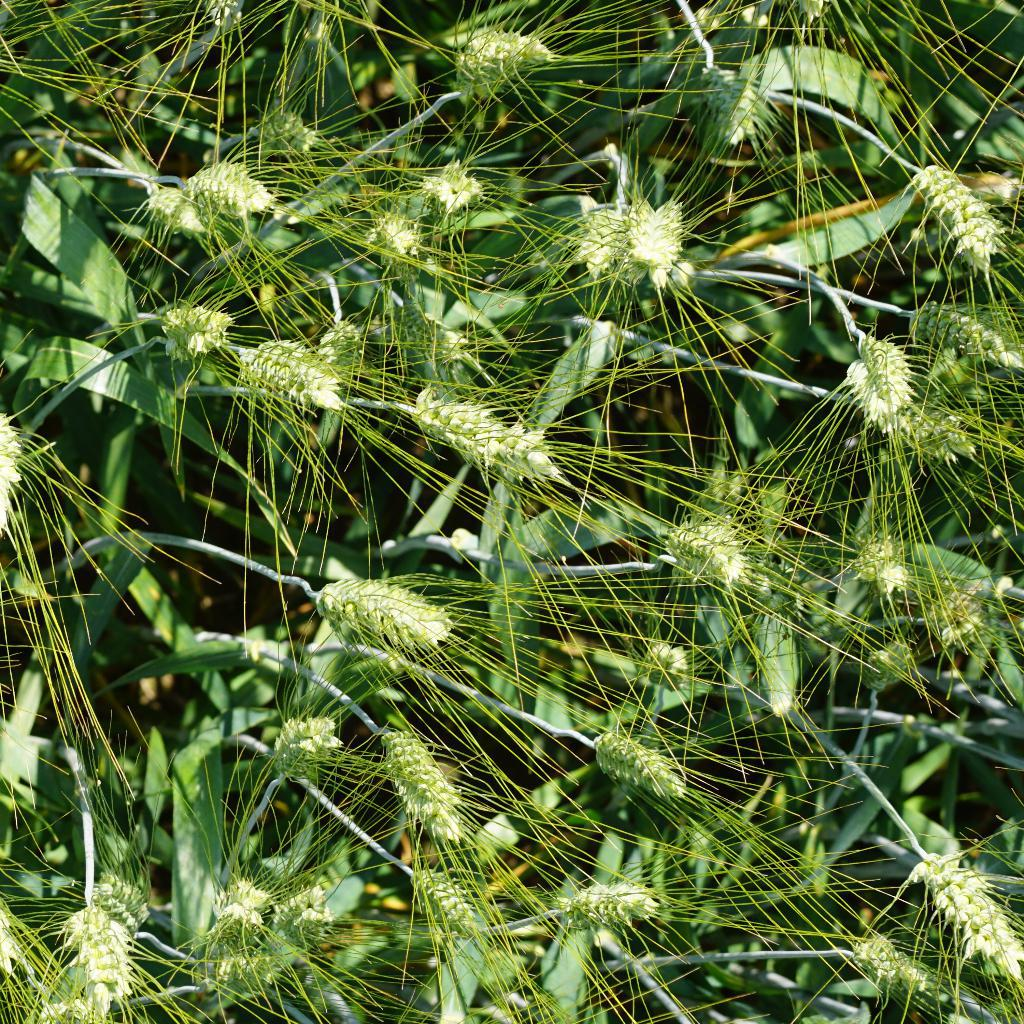0-0: (390, 381, 576, 495), (905, 836, 1024, 982), (278, 573, 458, 655), (364, 715, 475, 845), (900, 160, 1011, 274), (574, 186, 690, 293), (439, 16, 561, 102), (565, 729, 692, 806), (842, 396, 979, 465), (61, 895, 141, 1010), (234, 335, 346, 416), (884, 303, 1011, 370), (646, 513, 756, 586), (842, 324, 918, 427), (691, 54, 770, 153), (828, 931, 930, 1001), (397, 863, 485, 944), (267, 704, 346, 791), (550, 873, 664, 932), (555, 195, 636, 278), (189, 871, 274, 948), (264, 877, 347, 952), (183, 159, 286, 217), (916, 578, 986, 653), (353, 206, 428, 276), (191, 943, 295, 993), (153, 303, 239, 363), (848, 530, 915, 597), (84, 872, 152, 937), (628, 630, 700, 691), (312, 310, 367, 389), (142, 185, 213, 246), (0, 391, 29, 537), (415, 161, 488, 219), (855, 633, 919, 695), (245, 110, 323, 159)
